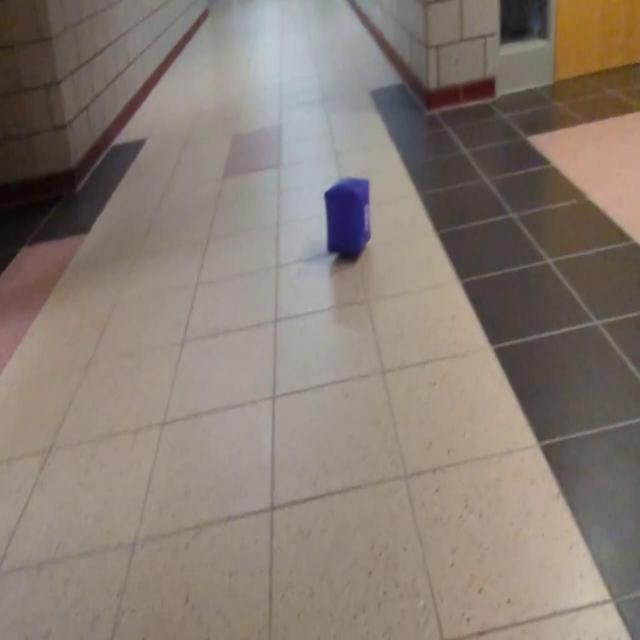frc_cube: (324, 178, 368, 260)
